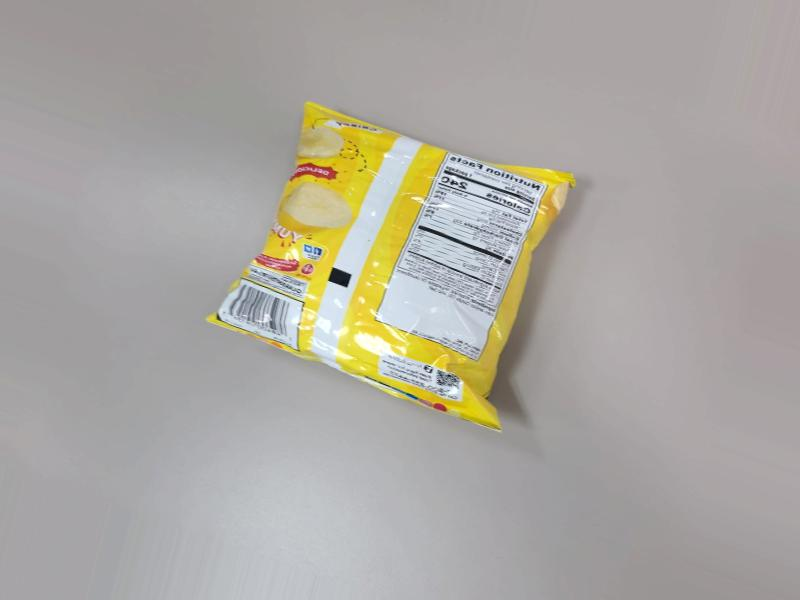lays: (198, 90, 570, 459)
